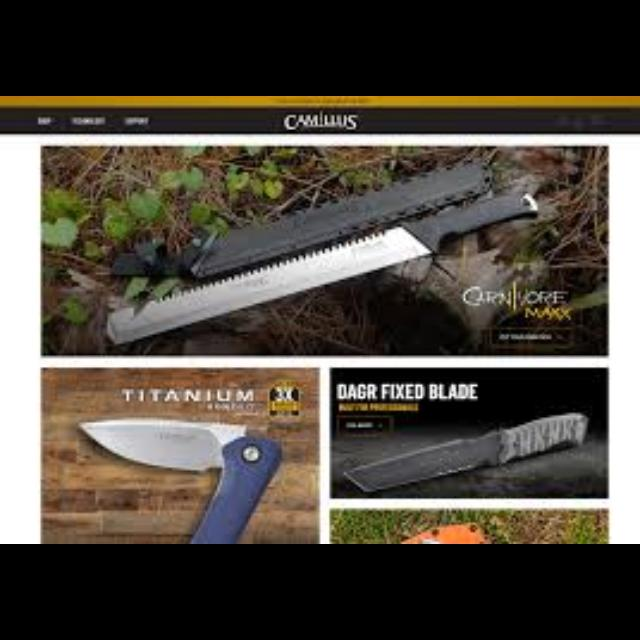knife: (109, 218, 493, 338), (76, 416, 282, 542), (342, 412, 586, 492)
